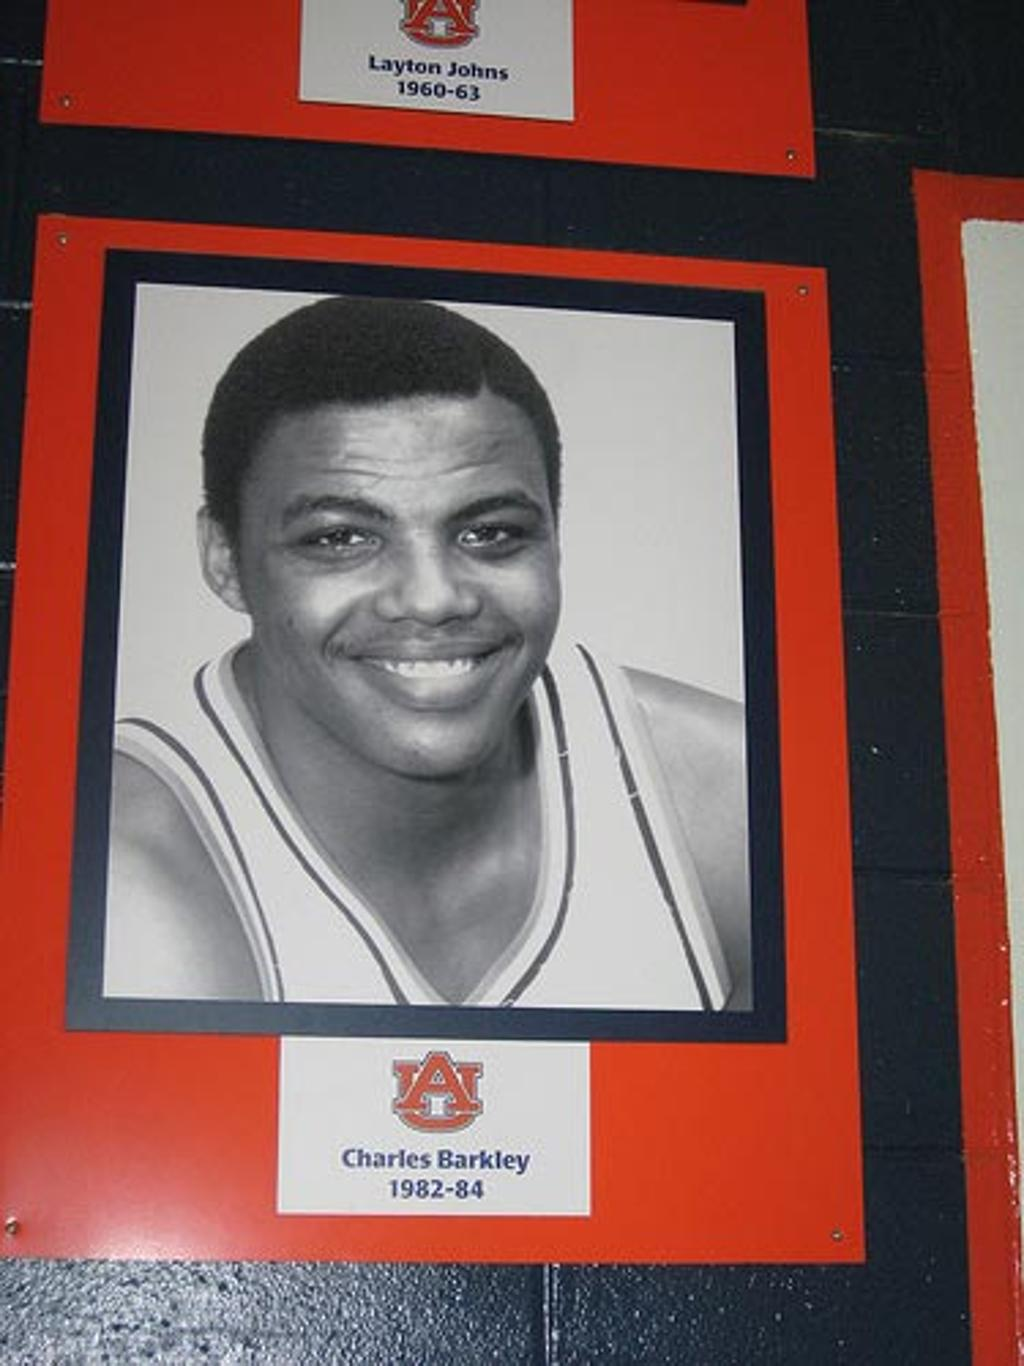face: (249, 382, 564, 774)
